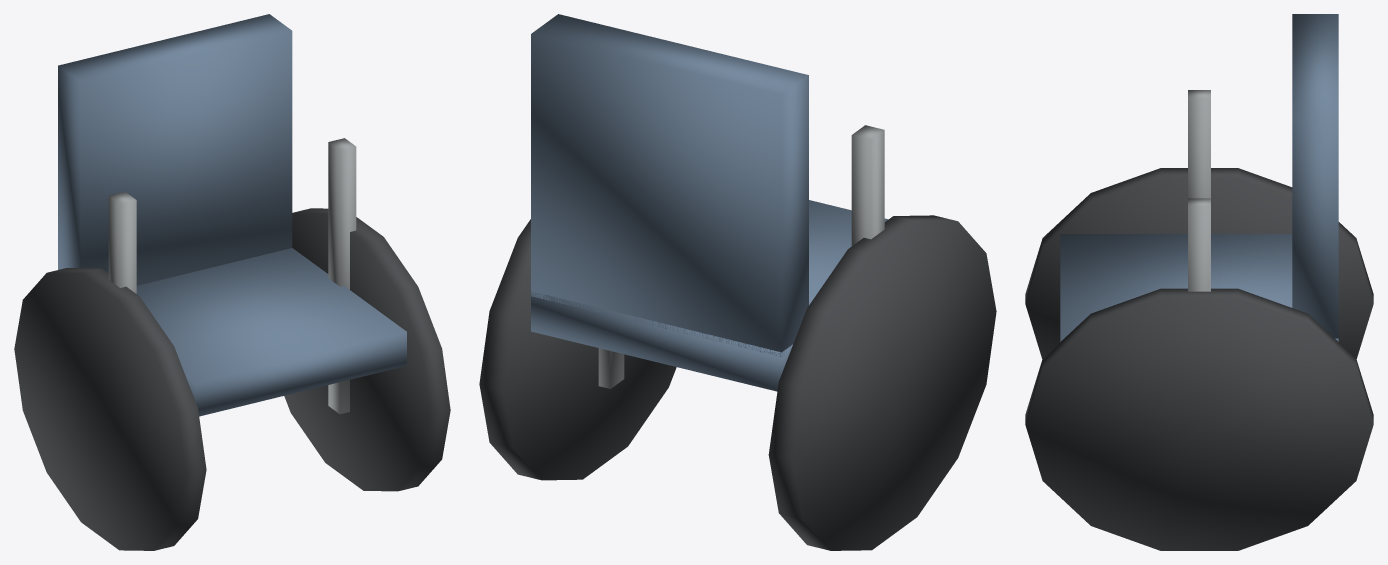
Rendered from wheelchair__deep.glb.
3 renders of one model, left to right at view 1: azimuth 30°, elevation 25°; view 2: azimuth 150°, elevation 25°; view 3: azimuth 270°, elevation 25°, orthographic. The views are drawn at different scales.
Visible parts, largest first — view 1: world; view 2: world; view 3: world.
Part boxes in pixels (bbox=[...]): world: bbox=[14, 14, 450, 550]; world: bbox=[479, 14, 996, 550]; world: bbox=[1025, 14, 1373, 550].
Bounding box in the file's own units: 0.65 × 0.9725 × 0.732.
